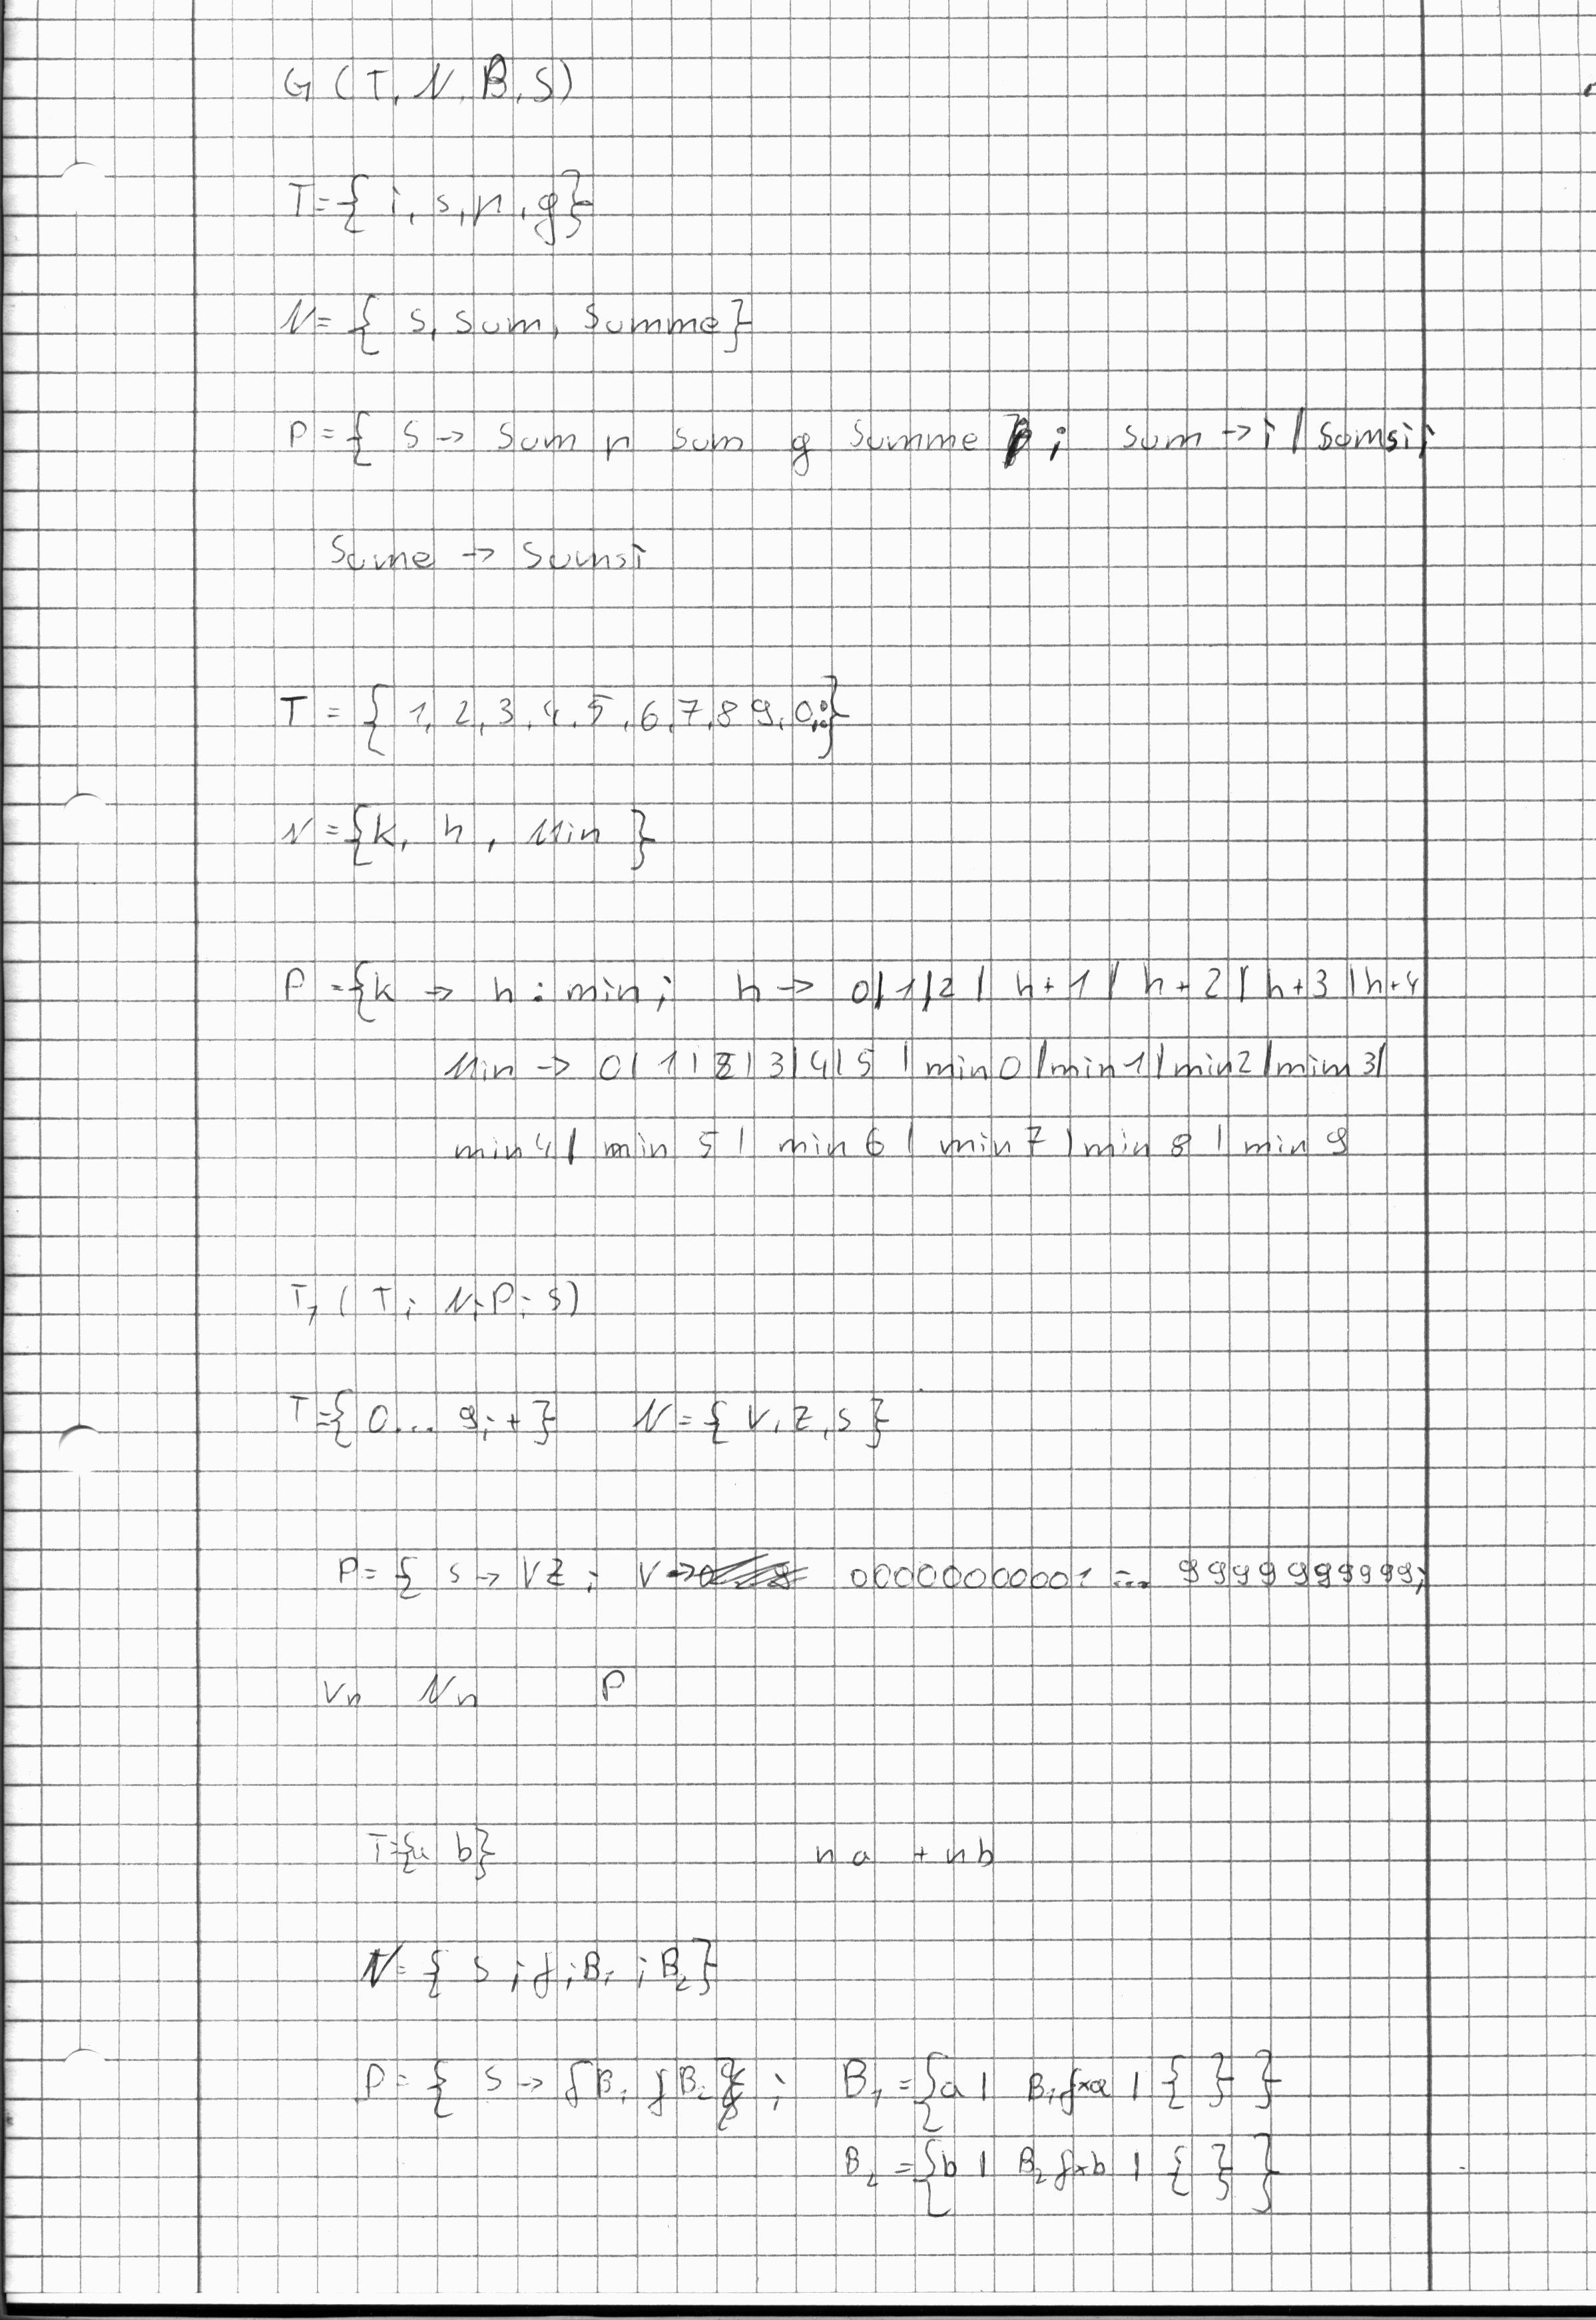word: (416, 949, 1431, 1184), (277, 396, 1443, 490), (328, 1528, 1440, 1619), (826, 2033, 1302, 2239), (262, 661, 870, 774), (333, 2034, 798, 2152), (271, 270, 765, 378), (270, 782, 675, 898), (345, 1915, 737, 2024), (266, 141, 626, 260), (257, 30, 595, 134), (310, 503, 669, 599), (280, 1243, 595, 1352), (272, 1368, 573, 1478), (623, 1368, 910, 1478), (308, 1645, 493, 1746), (340, 1795, 516, 1900), (800, 1805, 1009, 1894), (259, 924, 412, 1035), (564, 1637, 672, 1740)
